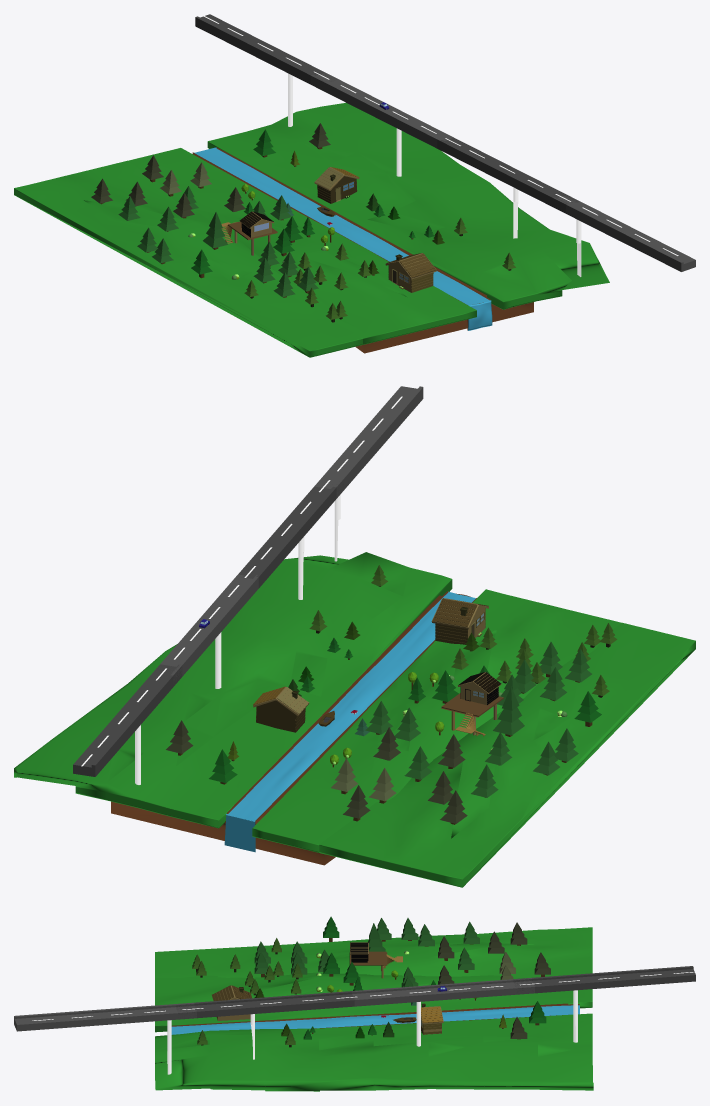
File: FINSOIREE05V2.glb
3 renders of one model, top to bottom at view 1: azimuth 30°, elevation 25°; view 2: azimuth 150°, elevation 25°; view 3: azimuth 270°, elevation 25°, orthographic. The views are drawn at different scales.
Parts seen in each view (by area): view 1: Cube.001-col, Cube.001-col.001, road-col, park-col, Cube, Cube.002-col.001, Cube.006-col.002; view 2: Cube.001-col, Cube.001-col.001, road-col, park-col, Cube, Cube.002-col.001, Cube.006-col.002, -col.006; view 3: Cube.001-col, road-col, Cube.001-col.001, park-col, Cube, Cube.002-col.001, Cube.006-col.002, Plane-col, -col.006.
Part boxes in pixels (left/top/right/bottom): Cube.001-col: left=128, top=103, right=609, bottom=344; Cube.001-col.001: left=14, top=160, right=368, bottom=357; road-col: left=195, top=14, right=695, bottom=276; park-col: left=192, top=147, right=533, bottom=353; Cube: left=385, top=253, right=436, bottom=292; Cube.002-col.001: left=314, top=167, right=359, bottom=203; Cube.006-col.002: left=239, top=211, right=274, bottom=237; Cube.001-col: left=14, top=552, right=621, bottom=854; Cube.001-col.001: left=319, top=622, right=695, bottom=887; road-col: left=73, top=386, right=423, bottom=784; park-col: left=111, top=591, right=476, bottom=865; Cube: left=431, top=598, right=488, bottom=644; Cube.002-col.001: left=253, top=686, right=309, bottom=732; Cube.006-col.002: left=458, top=672, right=501, bottom=704; -col.006: left=493, top=686, right=524, bottom=736; Cube.001-col: left=155, top=972, right=593, bottom=1091; road-col: left=14, top=966, right=695, bottom=1074; Cube.001-col.001: left=155, top=927, right=592, bottom=977; park-col: left=171, top=1003, right=579, bottom=1034; Cube: left=212, top=985, right=251, bottom=1020; Cube.002-col.001: left=421, top=1003, right=443, bottom=1034; Cube.006-col.002: left=350, top=942, right=368, bottom=962; Plane-col: left=349, top=951, right=387, bottom=965; -col.006: left=368, top=923, right=385, bottom=951.
Bounding box in the file's own units: 175 × 47.45 × 311.
